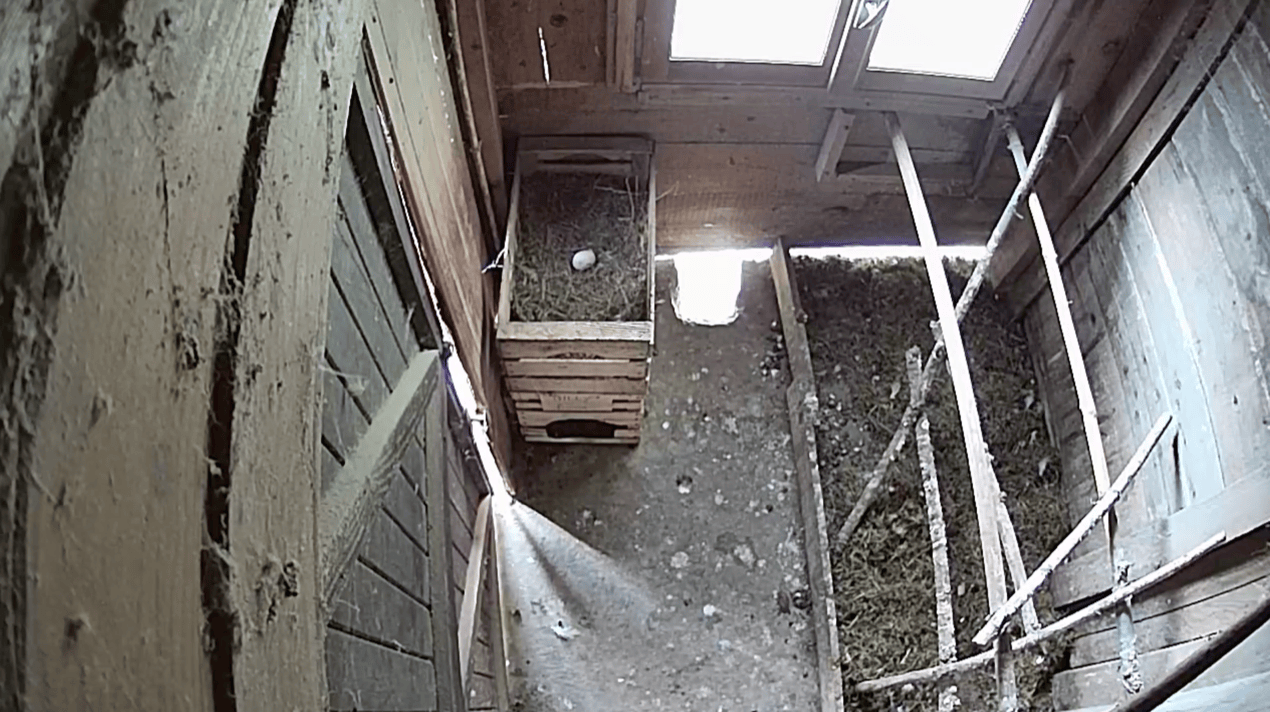egg: (568, 244, 600, 278)
